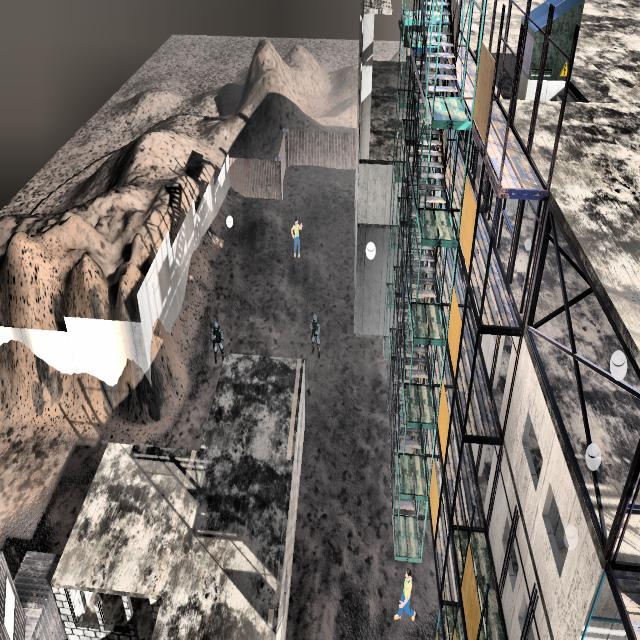bad: (208, 312, 227, 368), (308, 305, 323, 364)
good: (390, 558, 418, 632), (289, 210, 303, 264)
